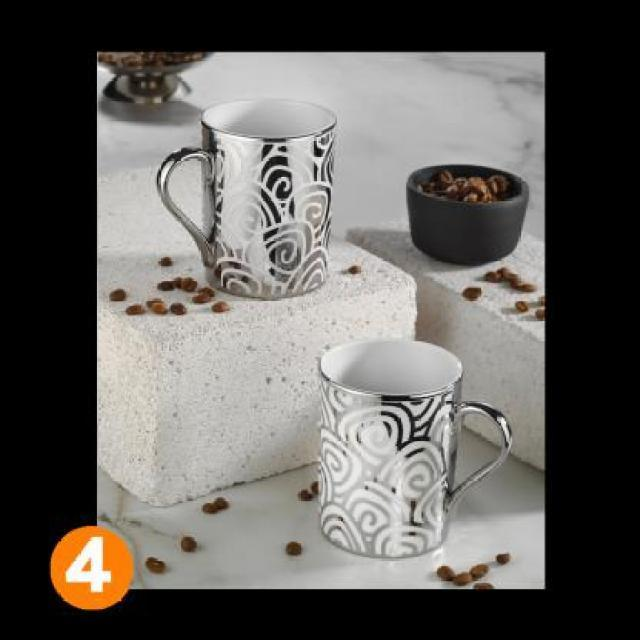taza: (318, 336, 513, 563), (154, 96, 340, 299)
